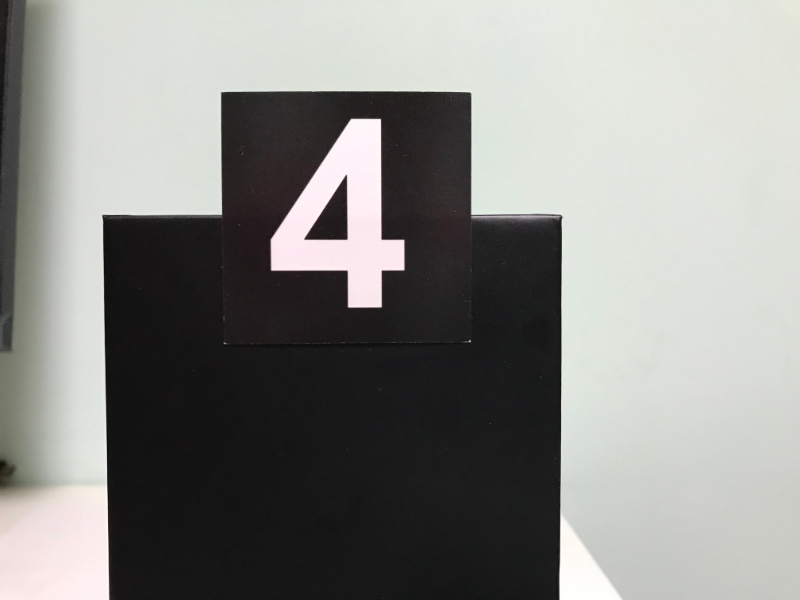Four-9: (226, 96, 467, 340)
